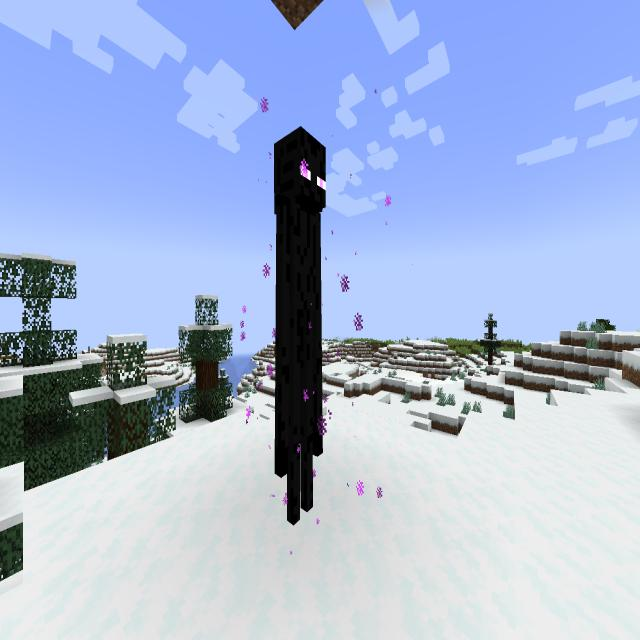Enderman: (265, 118, 341, 534)
